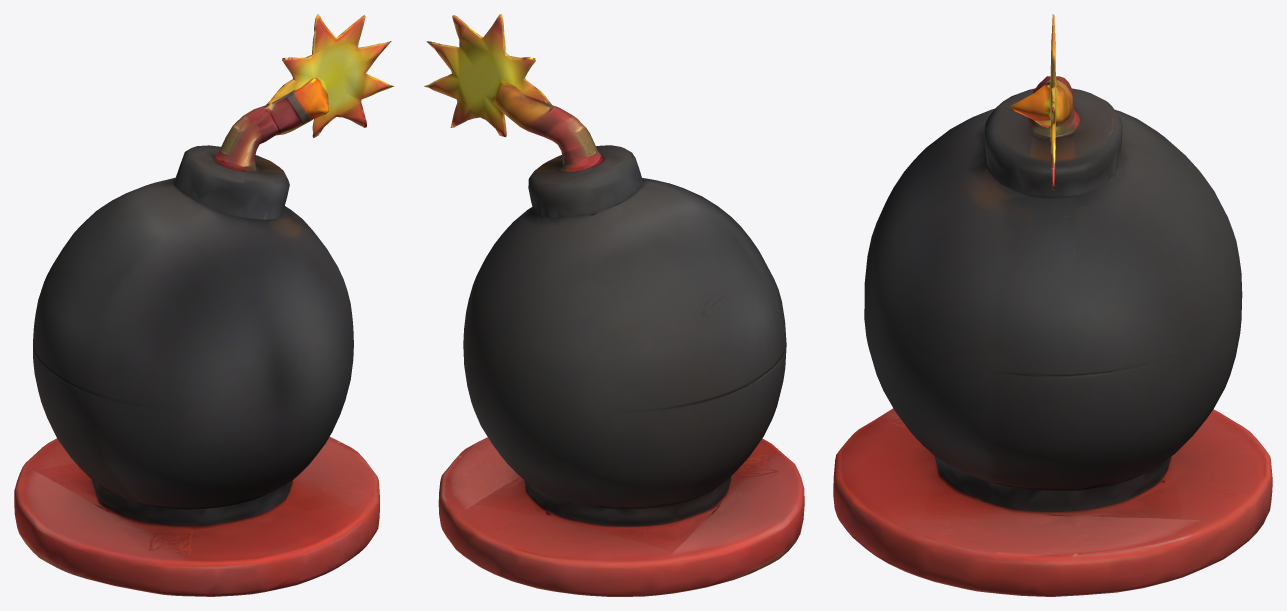
Rendered from Bomb.fbx.
The picture shows the model from 3 angles, left to right: view 1: azimuth 30°, elevation 25°; view 2: azimuth 150°, elevation 25°; view 3: azimuth 270°, elevation 25°; orthographic projection. The views are drawn at different scales.
Parts seen in each view (by area): view 1: input; view 2: input; view 3: input.
Part boxes in pixels (x1,y1,x2,y2): input: [14, 14, 394, 596]; input: [424, 14, 804, 596]; input: [833, 14, 1272, 596].
Bounding box in the file's own units: 154 × 197 × 138.
1 material, 1 textured.
